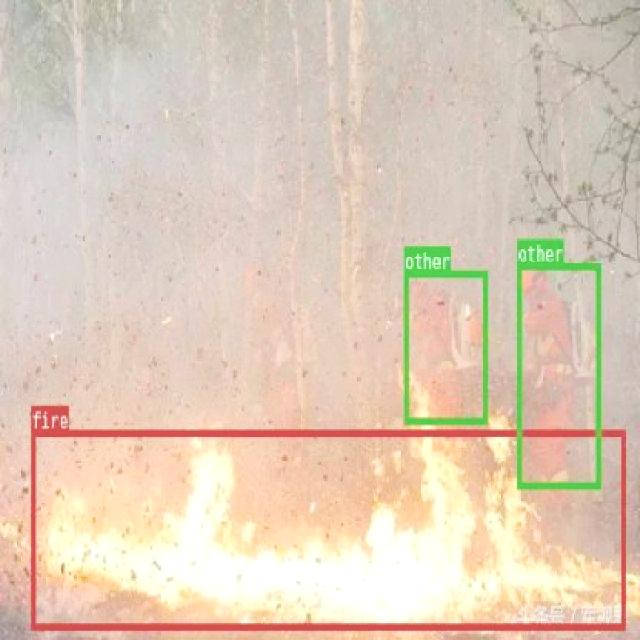fire: (31, 428, 624, 628)
